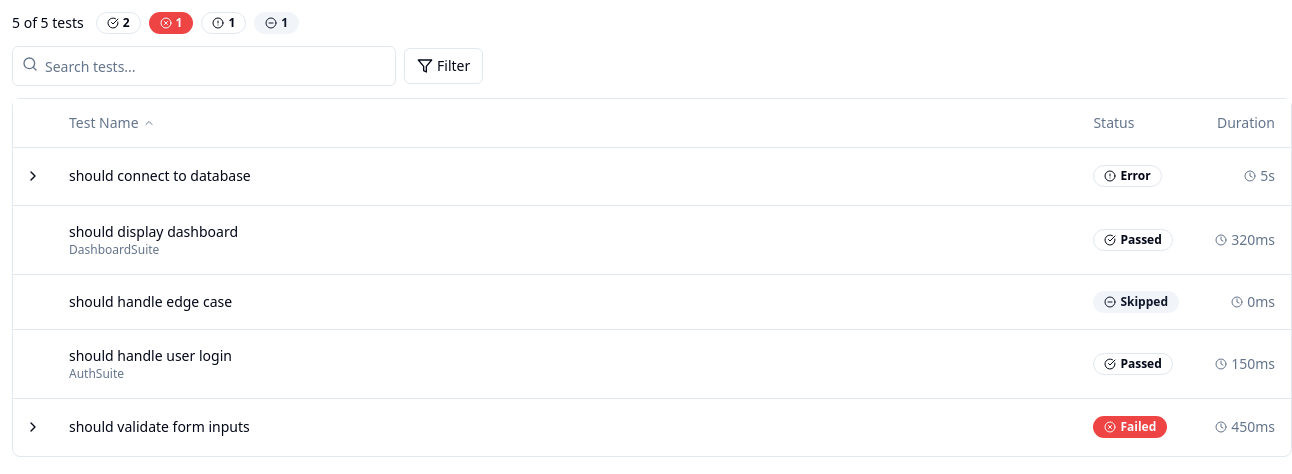
Test case: TestResultsTable › Status Filter Dropdown › filters by single status
This screenshot has width=1292, height=474.
Click the button "Filter". click: (444, 66)
box: x1=404 y1=48 x2=483 y2=84
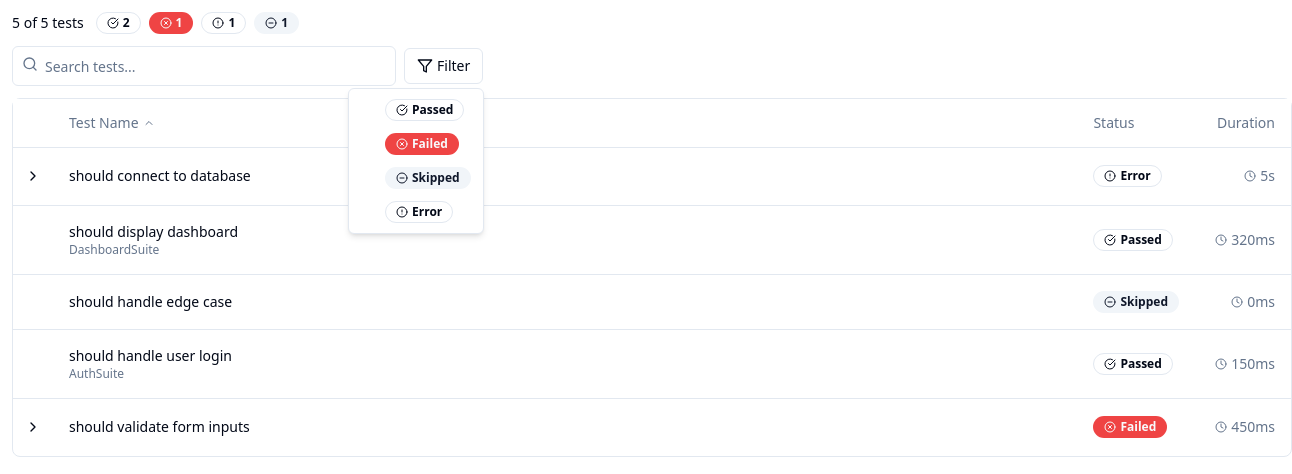
Expected: the menu item "Failed" is shown
Click the menu item "Failed". click: (422, 144)
box: x1=385 y1=133 x2=459 y2=155
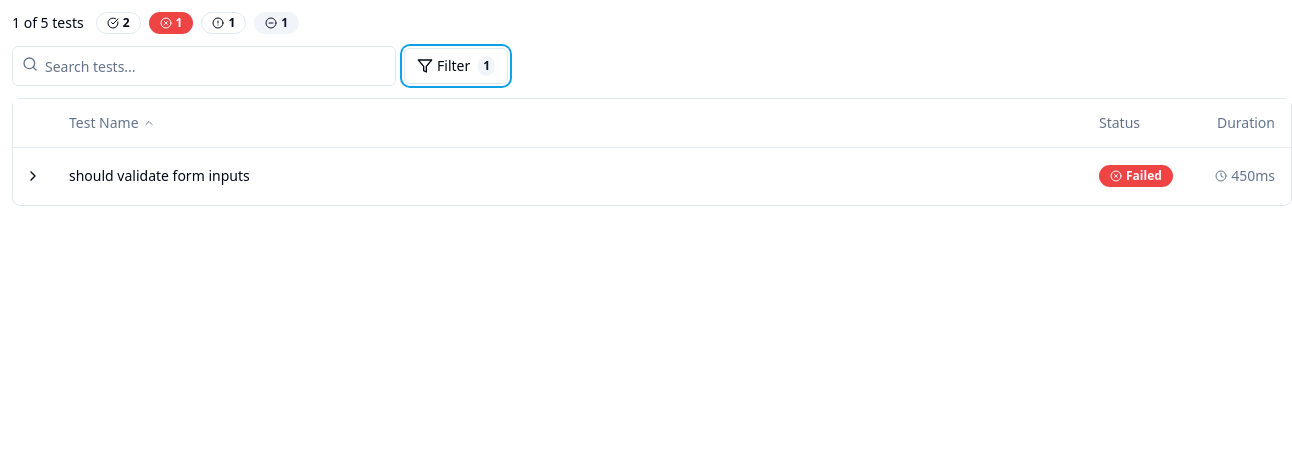
Expected: the text "should validate form inputs" is shown, x1=69 y1=166 x2=250 y2=185
Expected: the text "should handle user login" is gone
